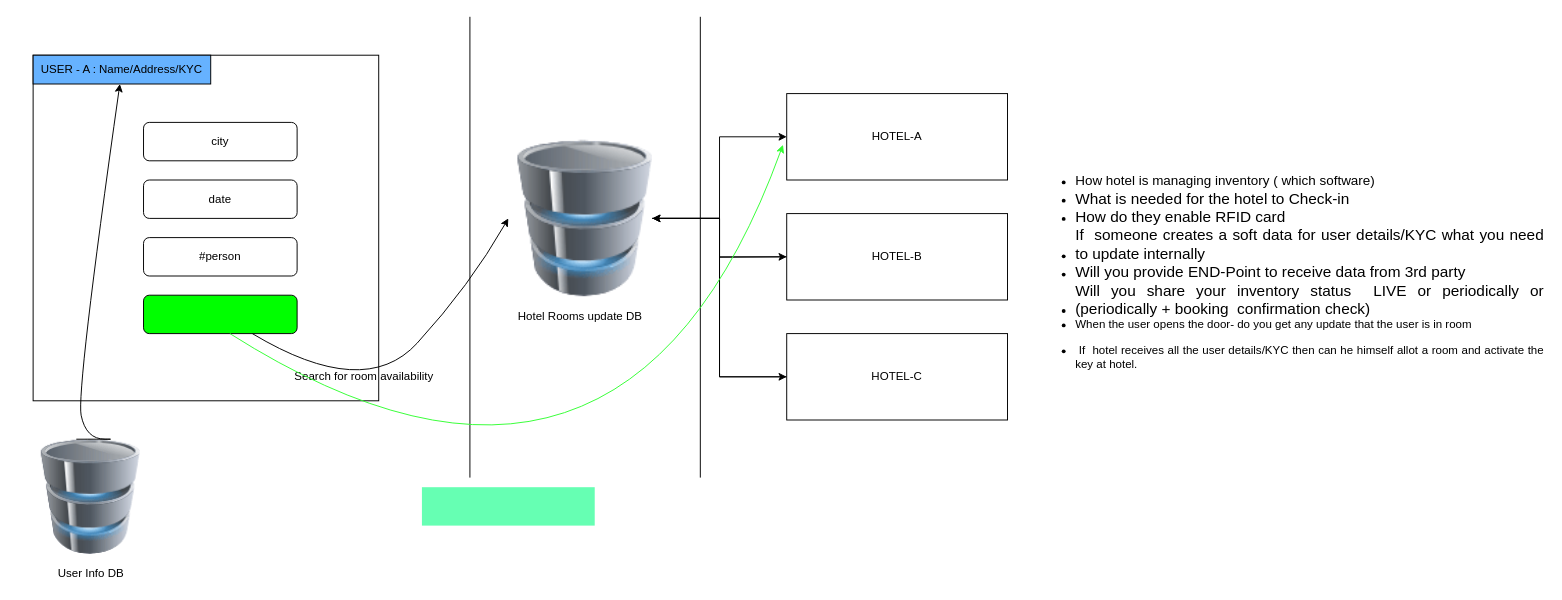
Some shapes in this 1562 by 600 pixel diagram are drawn without their labels. Each missing label, with the centre of its shape:
"DB sync with all hotels @1hrs" belongs at [584,218].
"Once Booking is Confirm do API call to hotel" belongs at [507,506].
"SEARCH" belongs at [220,314].
